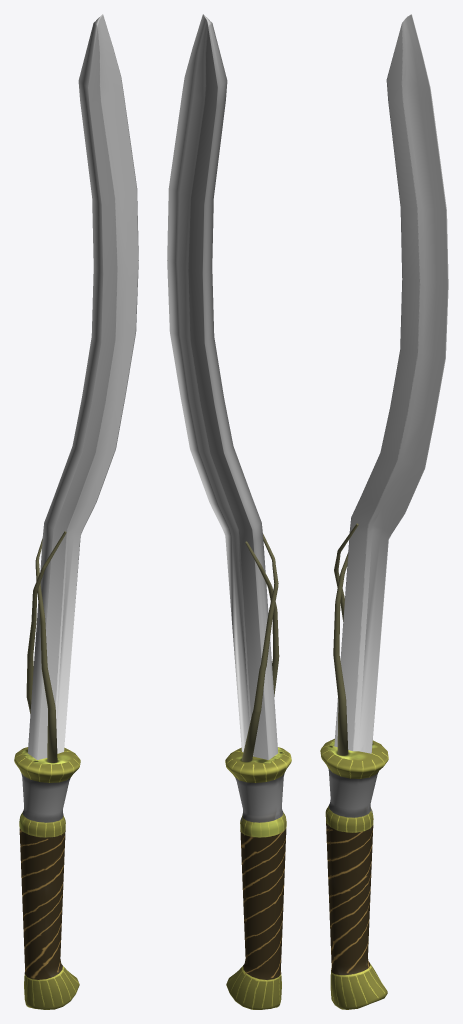
File: kilic_04.fbx
The picture shows the model from 3 angles, left to right: view 1: azimuth 30°, elevation 25°; view 2: azimuth 150°, elevation 25°; view 3: azimuth 330°, elevation 25°; orthographic projection. The views are drawn at different scales.
Visible parts, largest first — view 1: kilic_04; view 2: kilic_04; view 3: kilic_04.
Part boxes in pixels (x1,y1,x2,y2): kilic_04: (14, 14, 138, 1009); kilic_04: (167, 14, 291, 1009); kilic_04: (320, 14, 448, 1009).
Size of the model in its own units: 29.24 by 226 by 14.14.
1 material, 1 textured.
